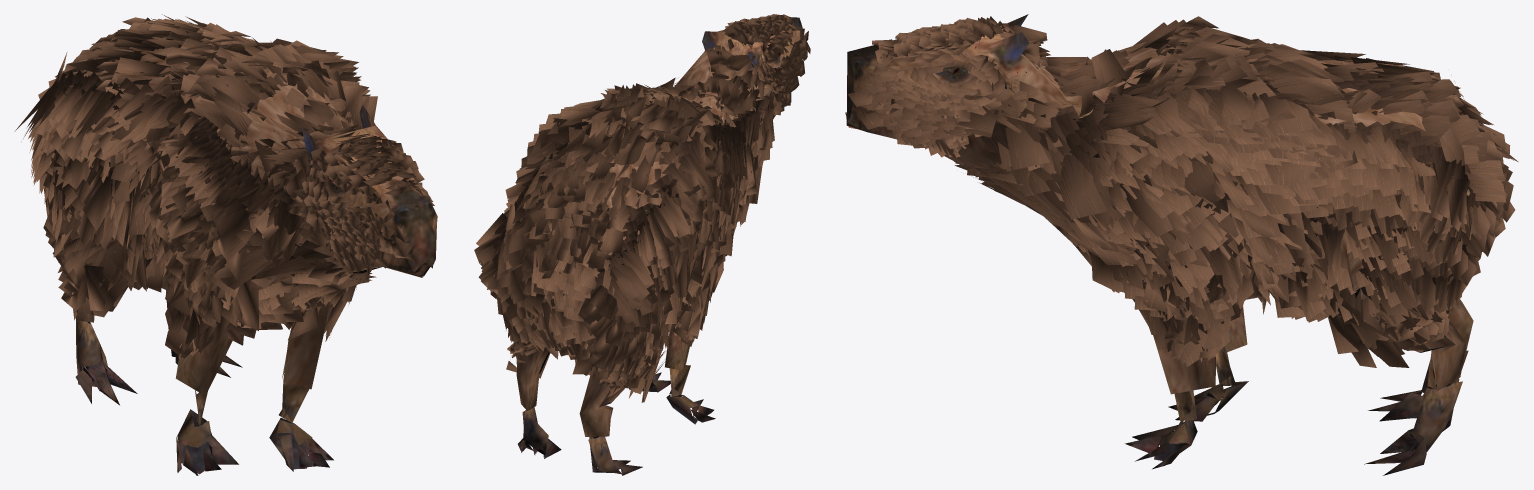
The model's file is capibara.glb.
The picture shows the model from 3 angles, left to right: view 1: azimuth 30°, elevation 25°; view 2: azimuth 150°, elevation 25°; view 3: azimuth 270°, elevation 25°; orthographic projection. The views are drawn at different scales.
Visible parts, largest first — view 1: capibara; view 2: capibara; view 3: capibara.
Boxes of the visible parts, left/top/right/bottom form: capibara: left=14, top=14, right=437, bottom=475; capibara: left=474, top=14, right=810, bottom=475; capibara: left=845, top=14, right=1518, bottom=475.
Size of the model in its own units: 0.4591 by 0.7557 by 1.1.
Materials: 3 (2 with a texture image).
